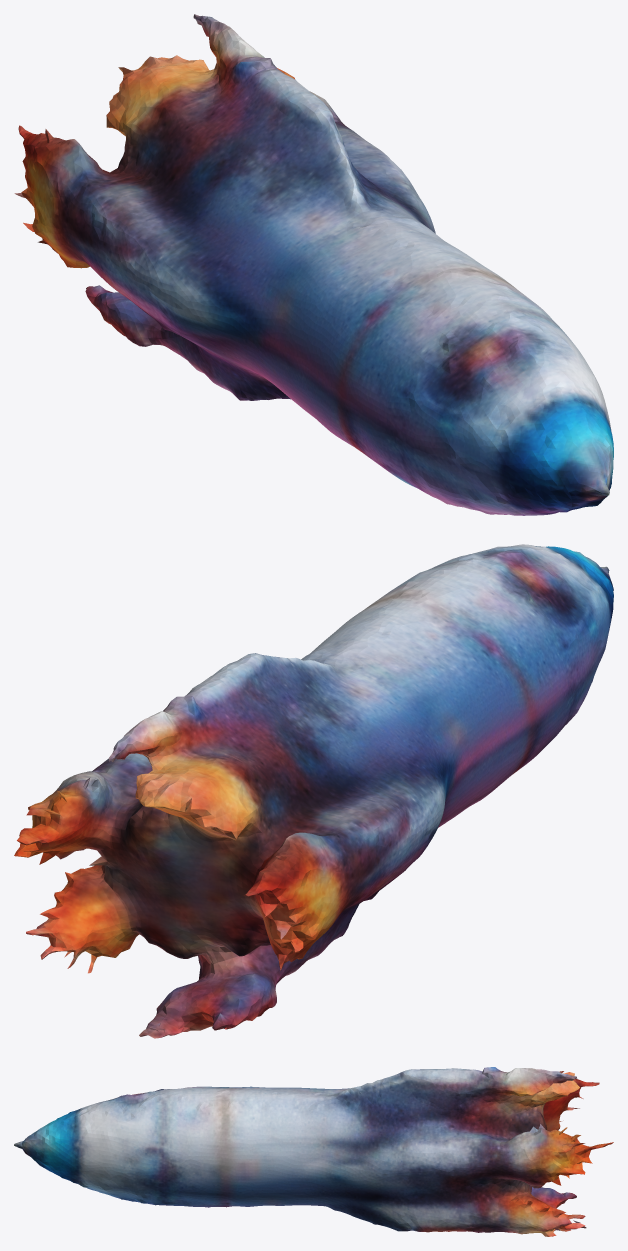
The model's file is A futuristic, cyberpunk rocket, highly detailed, photorealistic.glb.
3 views of the same model, one above another, from view 1: azimuth 30°, elevation 25°; view 2: azimuth 150°, elevation 25°; view 3: azimuth 270°, elevation 25° (orthographic). The views are drawn at different scales.
Bounding box in the file's own units: 0.4483 × 0.4342 × 1.33.
Materials: 1 (1 with a texture image).
